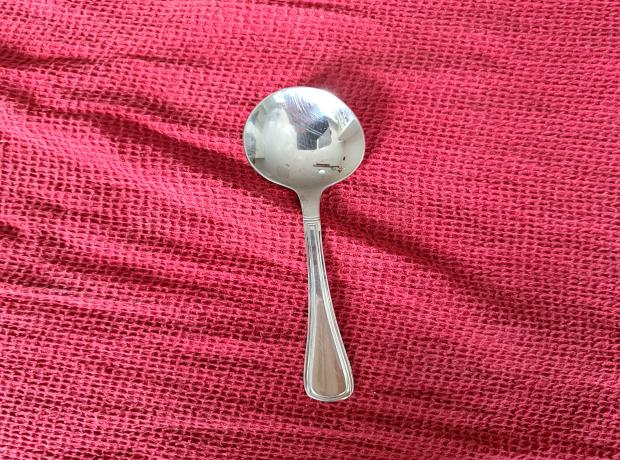metal: (237, 82, 366, 402)
